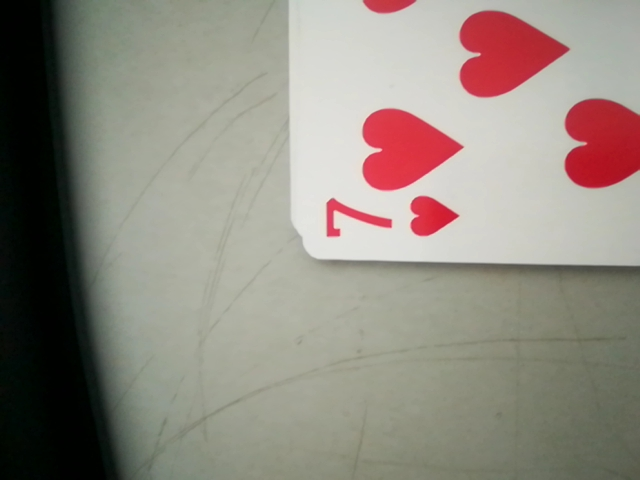hx 7: (312, 191, 465, 256)
